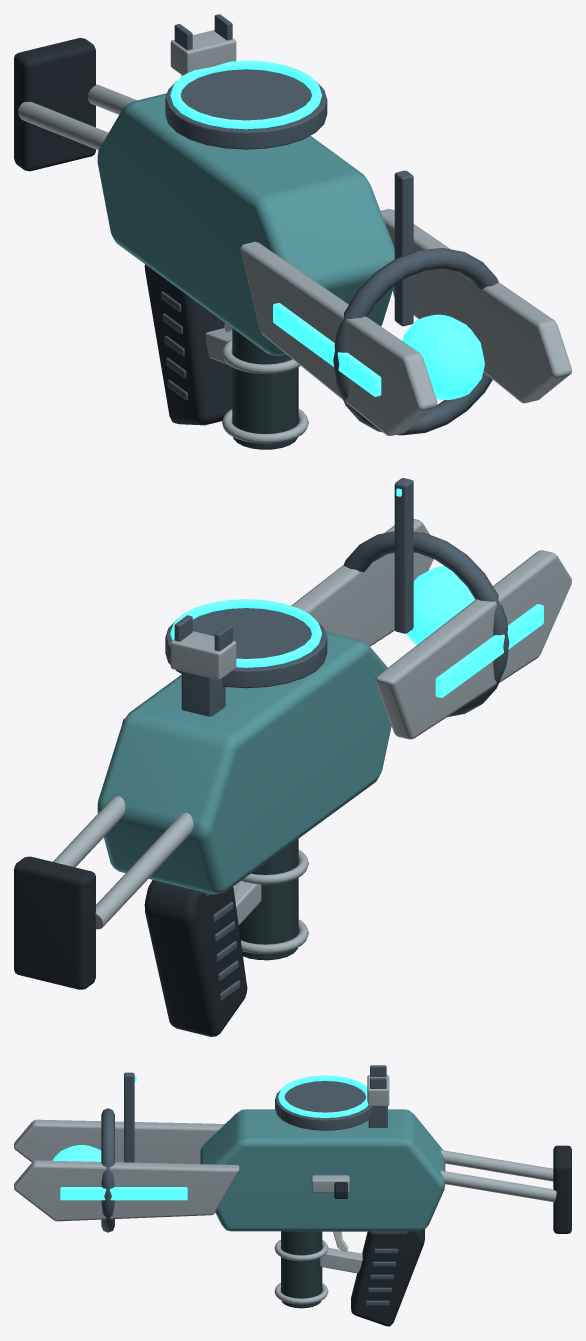
File: weapon_11.glb
3 renders of one model, top to bottom at view 1: azimuth 30°, elevation 25°; view 2: azimuth 150°, elevation 25°; view 3: azimuth 270°, elevation 25°, orthographic. The views are drawn at different scales.
Parts seen in each view (by area): view 1: receiver / Teal armour, receiver / Titanium, receiver / Cerakote midnight, receiver / Phase glass, receiver / Elastomer, pistol_grip / Elastomer, magazine / Optical glass, magazine / Titanium, pistol_grip / Cerakote midnight; view 2: receiver / Teal armour, receiver / Titanium, receiver / Cerakote midnight, pistol_grip / Elastomer, receiver / Elastomer, receiver / Phase glass, magazine / Optical glass, magazine / Titanium, pistol_grip / Cerakote midnight; view 3: receiver / Teal armour, receiver / Titanium, receiver / Cerakote midnight, pistol_grip / Elastomer, receiver / Phase glass, magazine / Optical glass, receiver / Elastomer, magazine / Titanium, pistol_grip / Cerakote midnight, charging_handle / Titanium.
Boxes of the visible parts, x1,y1,x2,y2 form: receiver / Teal armour: (97,93,394,355); receiver / Titanium: (18,30,571,435); receiver / Cerakote midnight: (165,14,498,435); receiver / Phase glass: (170,60,484,399); receiver / Elastomer: (14,38,95,171); pistol_grip / Elastomer: (144,264,232,425); magazine / Optical glass: (232,328,298,449); magazine / Titanium: (222,339,308,443); pistol_grip / Cerakote midnight: (161,291,187,400); receiver / Teal armour: (97,631,391,894); receiver / Titanium: (53,519,571,929); receiver / Cerakote midnight: (165,478,509,717); pistol_grip / Elastomer: (144,880,247,1036); receiver / Elastomer: (14,856,95,989); receiver / Phase glass: (170,488,543,697); magazine / Optical glass: (239,839,298,960); magazine / Titanium: (240,850,308,954); pistol_grip / Cerakote midnight: (205,892,240,1000); receiver / Teal armour: (200,1109,445,1231); receiver / Titanium: (14,1075,556,1273); receiver / Cerakote midnight: (101,1065,387,1232); pistol_grip / Elastomer: (351,1229,424,1326); receiver / Phase glass: (52,1075,368,1200); magazine / Optical glass: (281,1231,322,1308); receiver / Elastomer: (553,1145,571,1233); magazine / Titanium: (274,1231,328,1304); pistol_grip / Cerakote midnight: (366,1231,407,1305); charging_handle / Titanium: (311,1175,349,1192).
Bounding box in the file's own units: 0.2625 × 0.5181 × 1.05.
